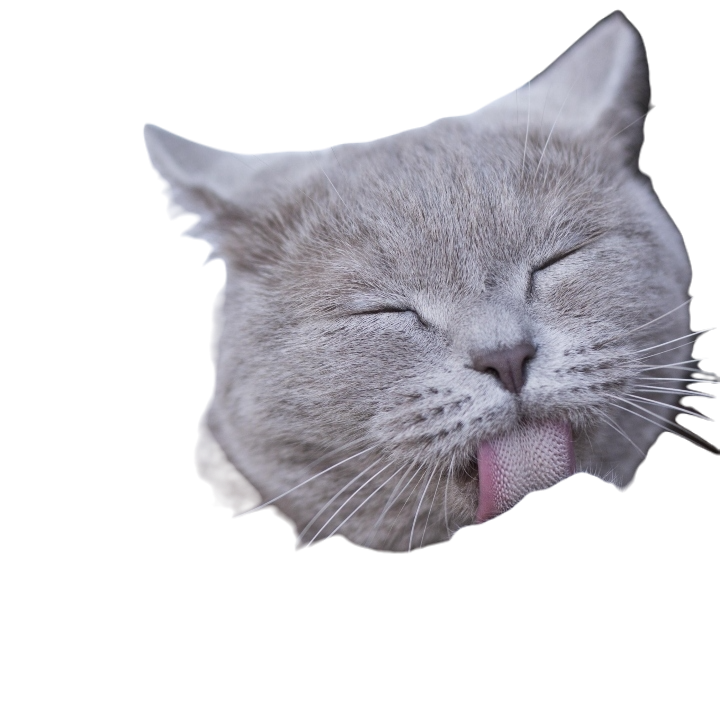Cat: (138, 9, 719, 555)
